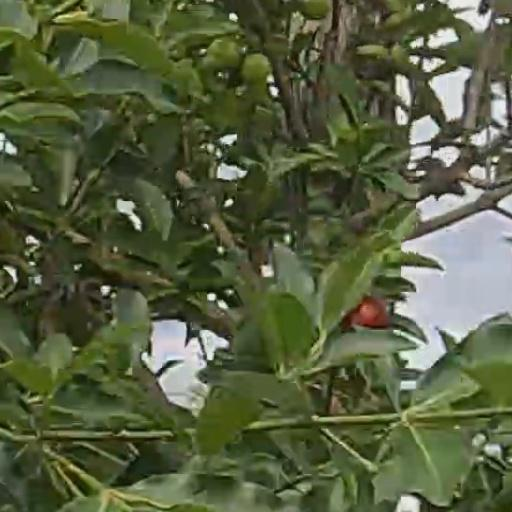acerola_vermelha: (346, 300, 392, 330)
